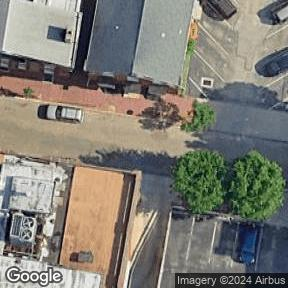vegetation: (170, 143, 288, 222), (182, 101, 216, 133), (22, 86, 36, 102), (185, 41, 195, 57)
